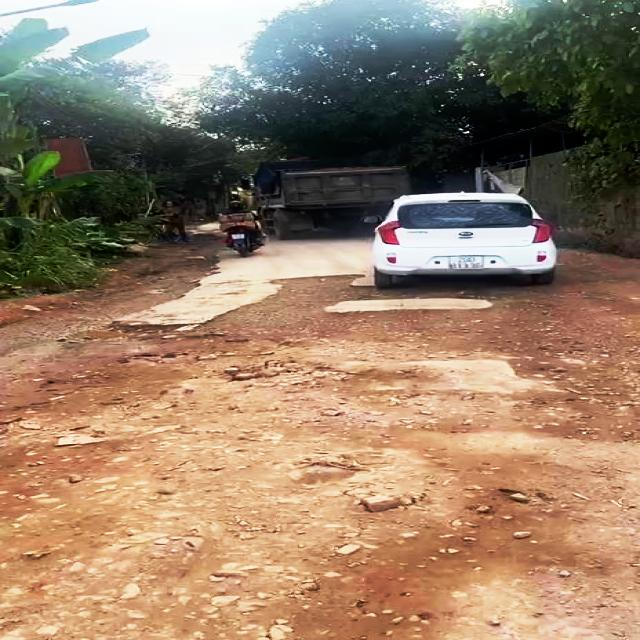pothole: (0, 320, 432, 563), (199, 277, 487, 411), (425, 275, 640, 442)
